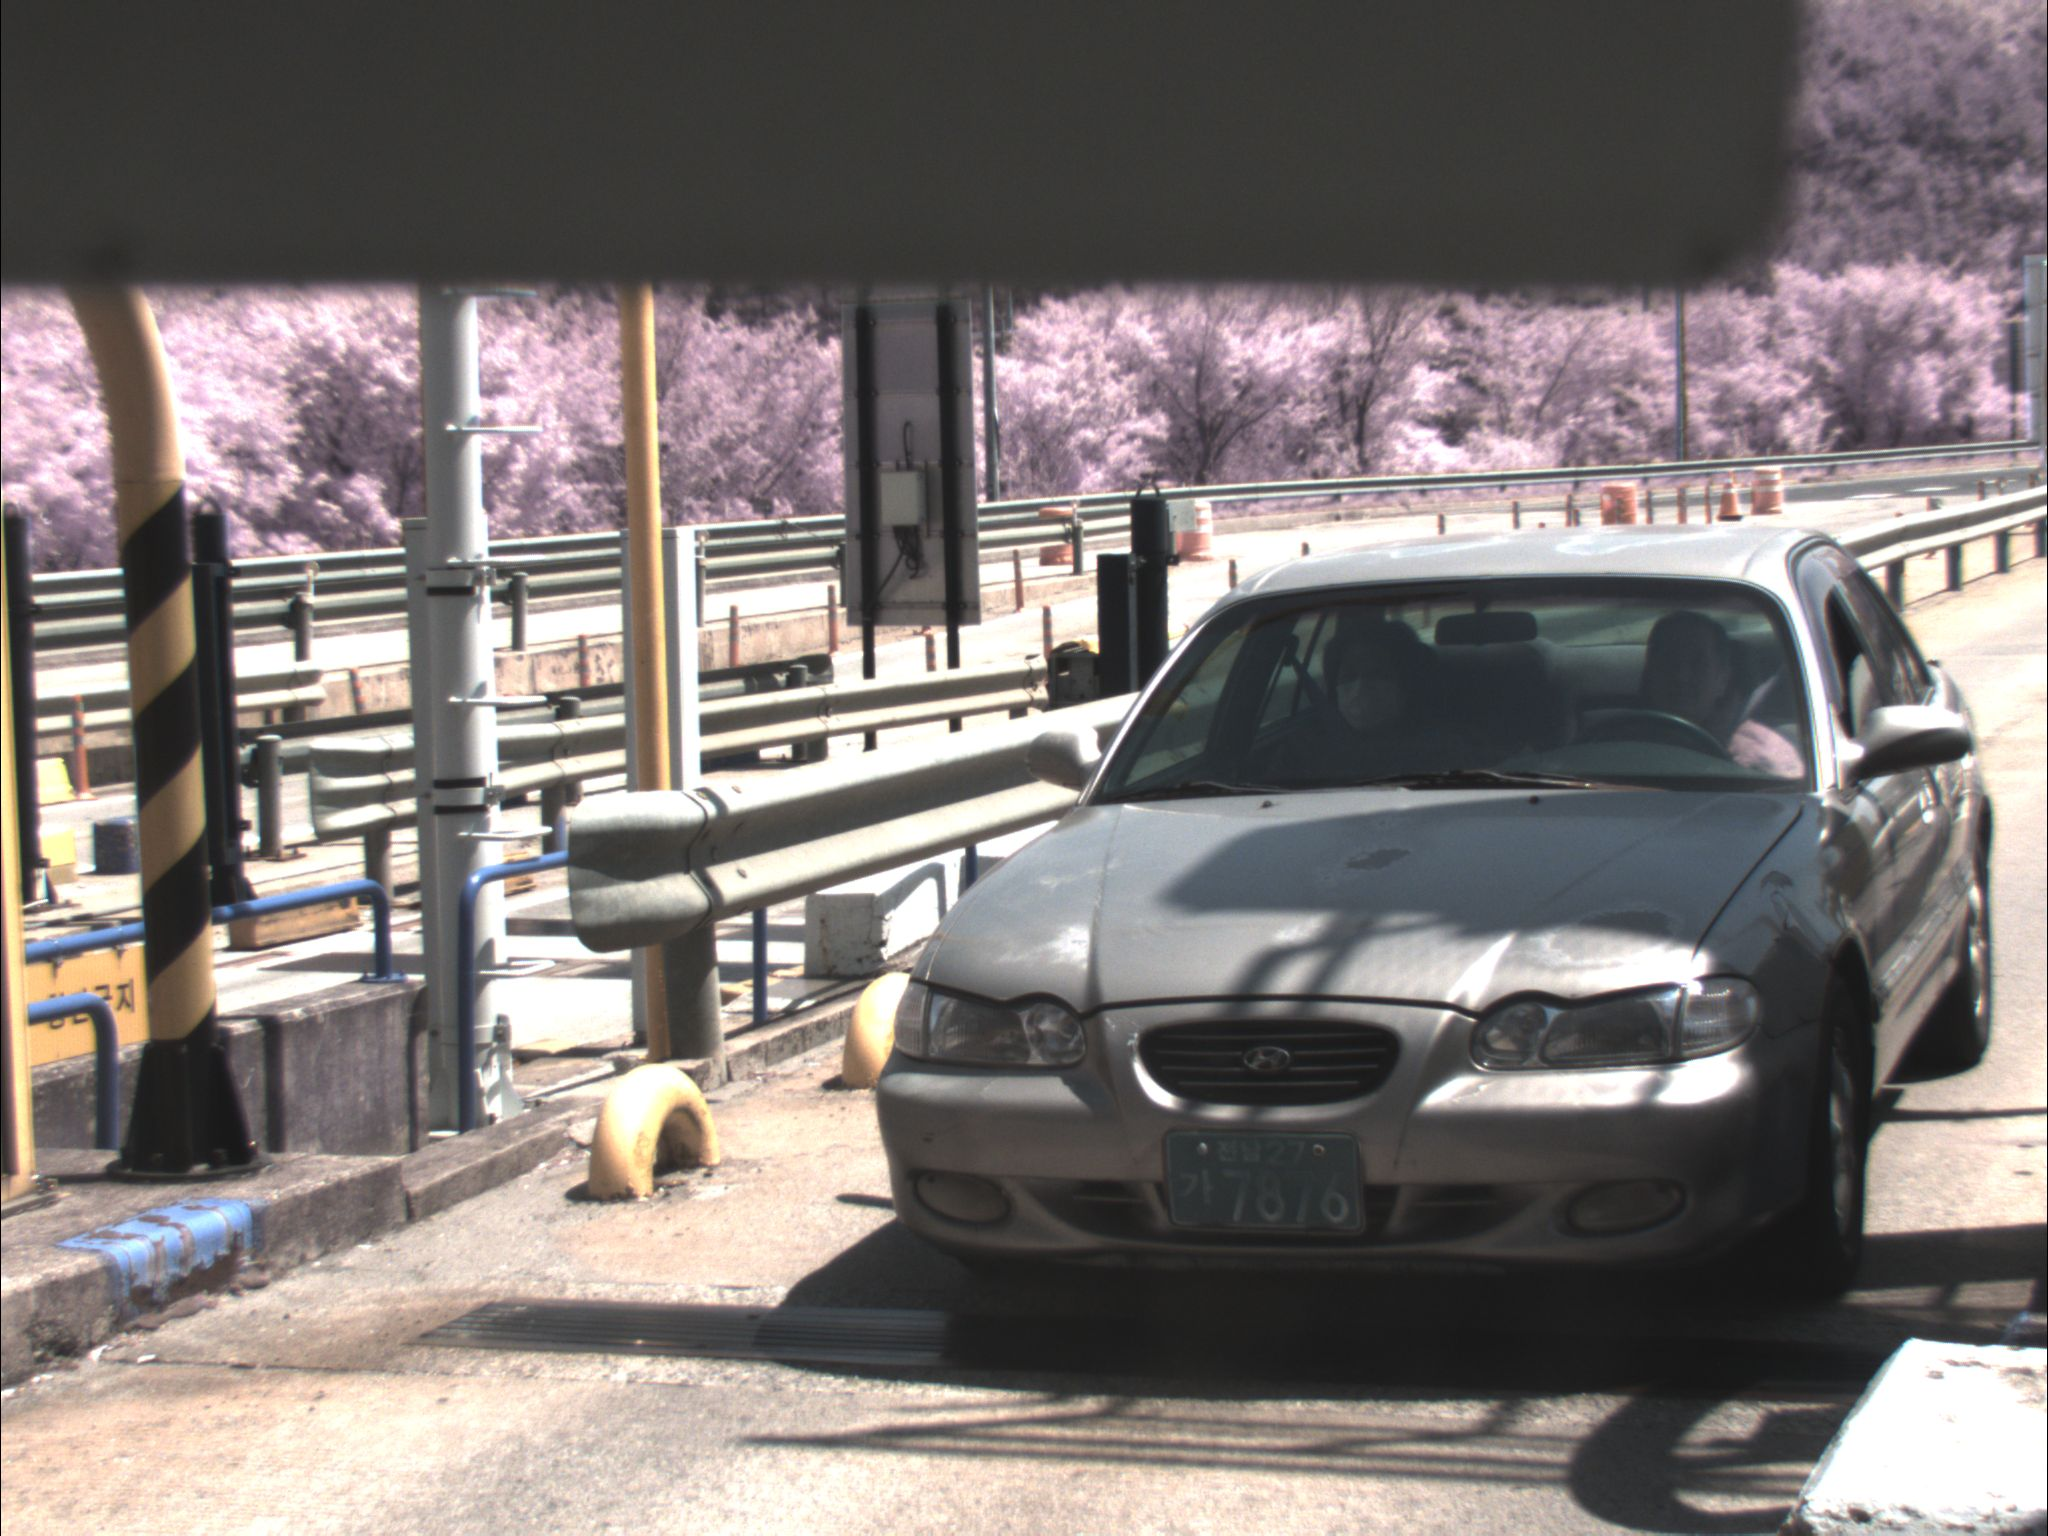car: (873, 526, 1997, 1304)
plate: (1156, 1127, 1376, 1240)
